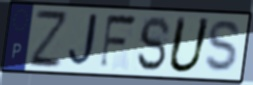F: (98, 13, 139, 72)
J: (66, 12, 104, 70)
S: (202, 18, 244, 76), (135, 14, 173, 73)
U: (165, 15, 213, 76)
Z: (28, 7, 68, 69)
